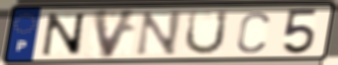5: (279, 7, 322, 56)
C: (234, 9, 272, 55)
N: (133, 9, 185, 57), (40, 12, 87, 58)
U: (182, 8, 231, 57)
V: (91, 7, 141, 60)
